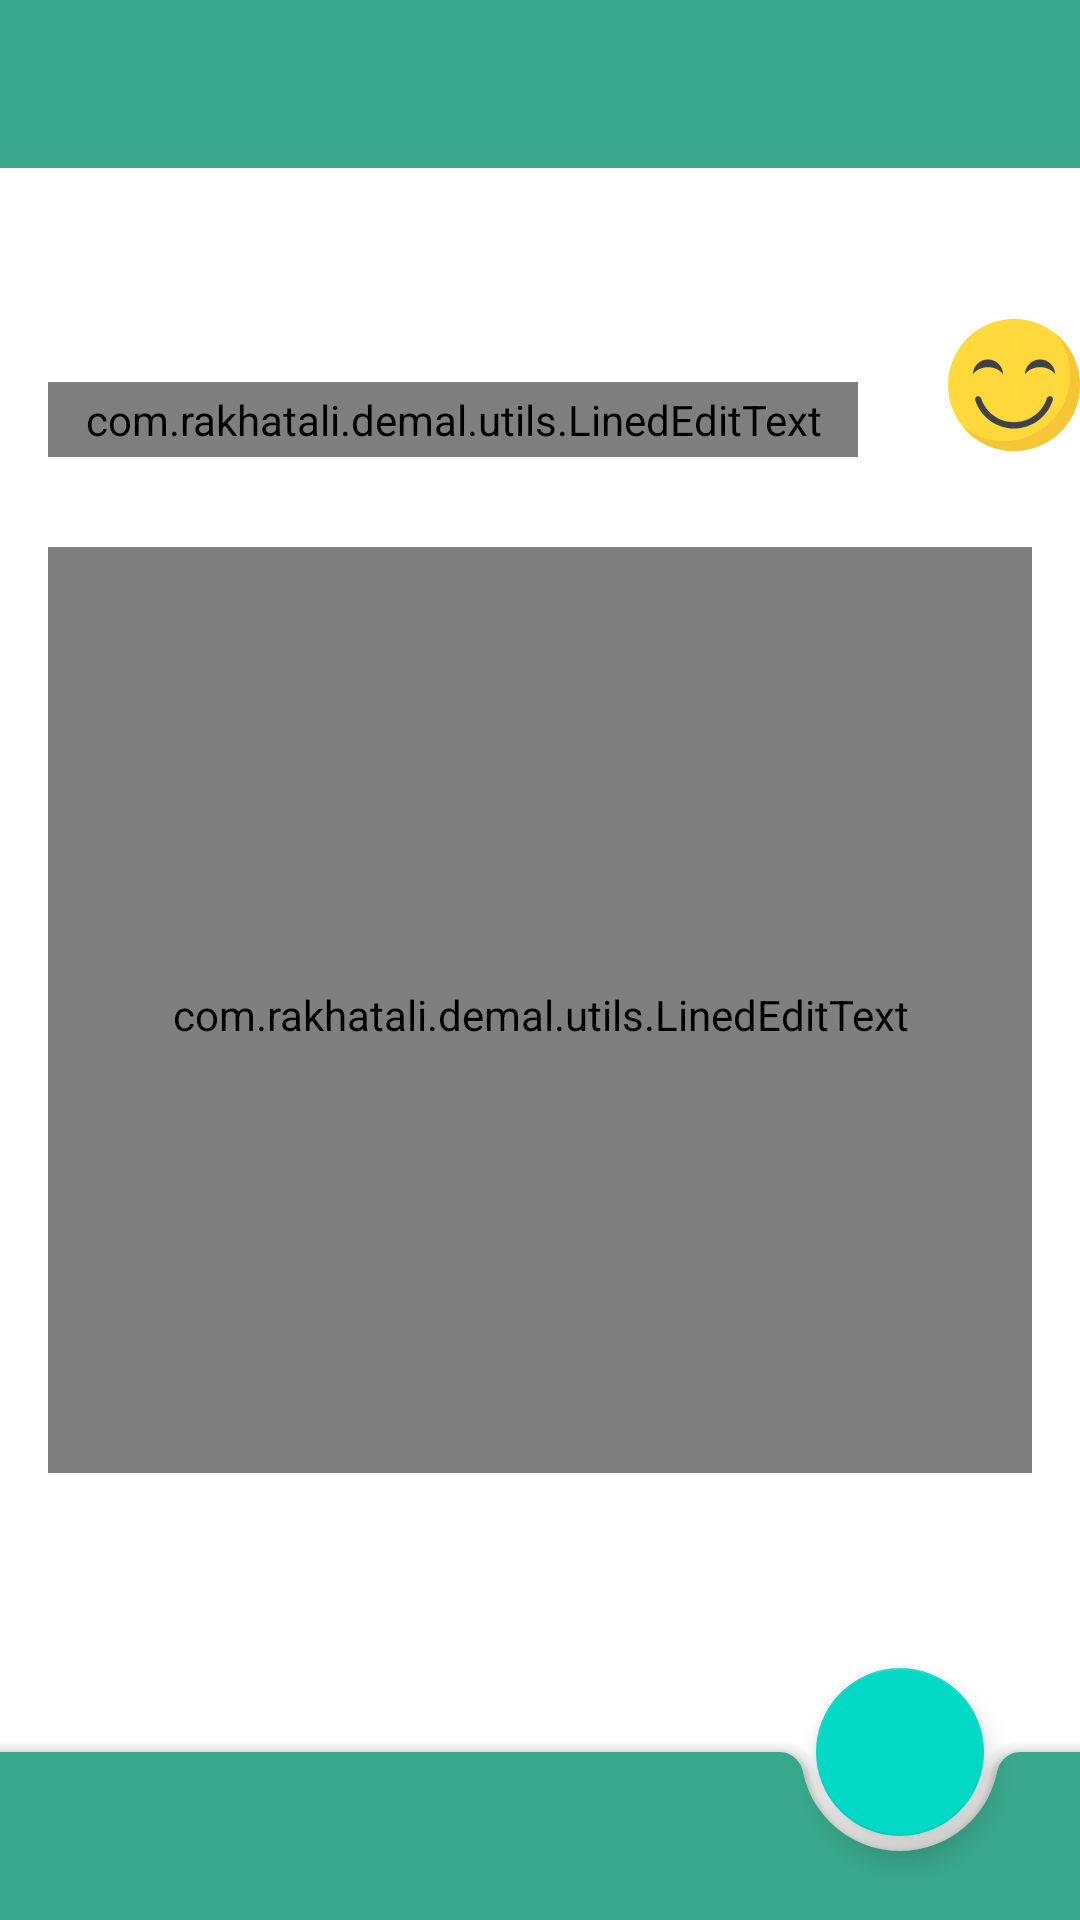

Named icons in this screenshot (1080w x 1920h) and their bounding boxes, (x1, y1, x2, y2):
emoji happy: (948, 319, 1080, 451)
